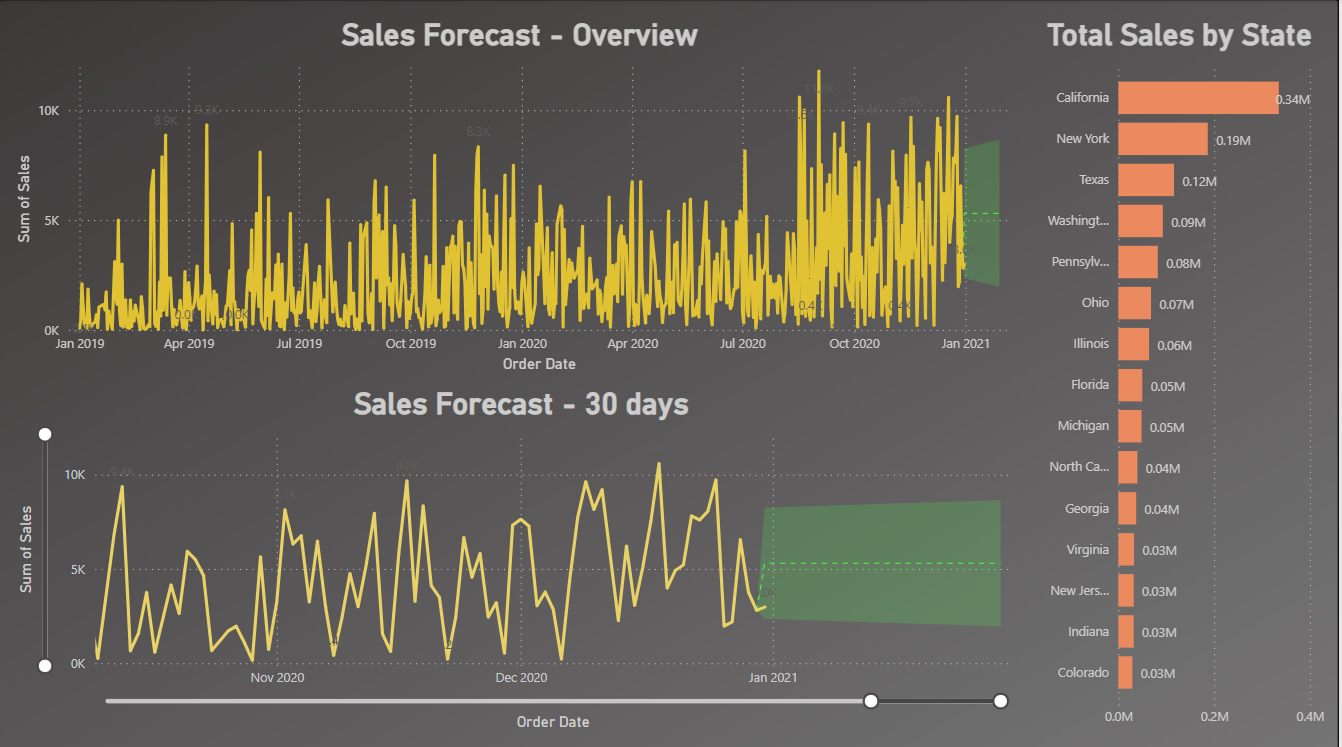

This screenshot's page, from the dashboard's own definition file:
{"tool":"powerbi","page":{"name":"SalesForecast","canvas":[1280,720],"ordinal":1},"visuals":[{"type":"lineChart","title":"Sales Forecast - 30 days","fields":{"Y":["Sum(SuperStore_Sales_Dataset.Sales)"],"Category":["SuperStore_Sales_Dataset.Order Date"]},"box":[12.9,370,972.9,332.9],"z":0},{"type":"lineChart","title":"Sales Forecast - Overview","fields":{"Y":["Sum(SuperStore_Sales_Dataset.Sales)"],"Category":["SuperStore_Sales_Dataset.Order Date"]},"box":[11.4,17.1,972.9,342.9],"z":1},{"type":"barChart","title":"Total Sales by State","fields":{"Y":["Sum(SuperStore_Sales_Dataset.Sales)"],"Category":["SuperStore_Sales_Dataset.State"]},"box":[984.3,17.1,285.7,685.7],"z":2}]}

Visuals, with their boxes in screenshot pixels (x1, y1, x2, y2), scaled from the page's 1280x720 canvas onto the 1342x747 screenshot:
"Sales Forecast - 30 days" lineChart: pyautogui.locateOnScreen(14, 384, 1034, 729)
"Sales Forecast - Overview" lineChart: pyautogui.locateOnScreen(12, 18, 1032, 374)
"Total Sales by State" barChart: pyautogui.locateOnScreen(1032, 18, 1332, 729)
